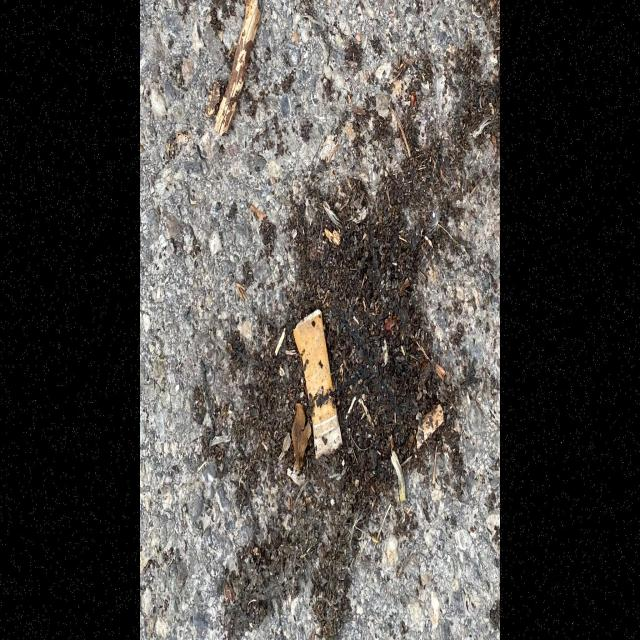other waste: (292, 308, 344, 462)
